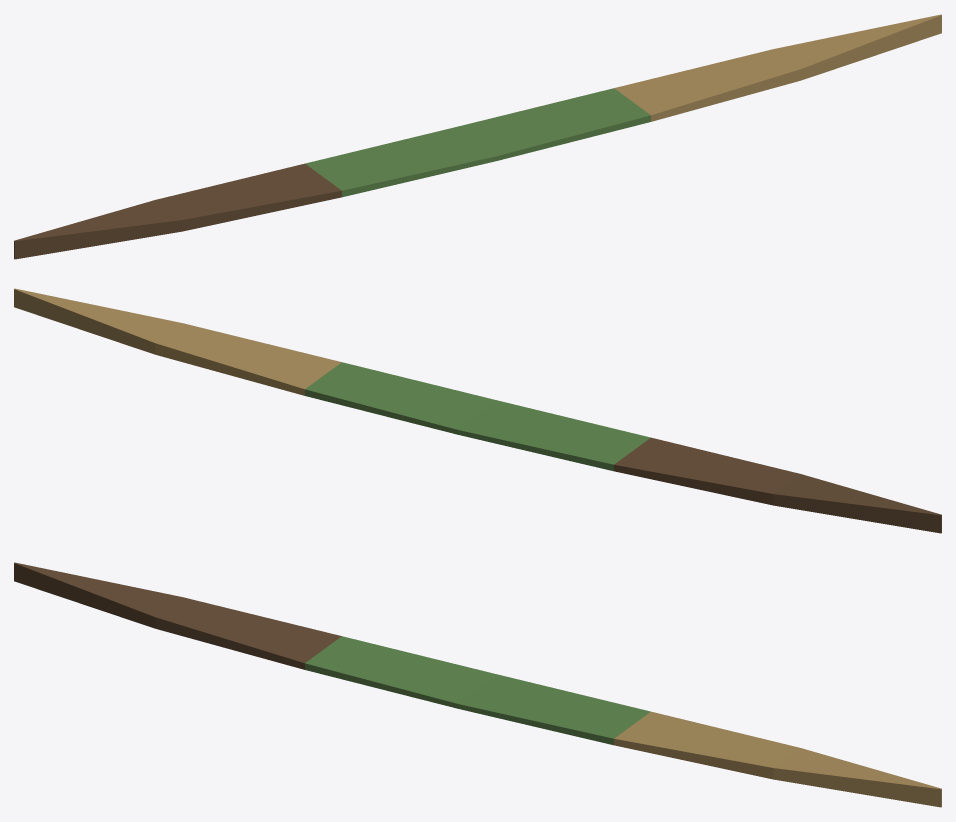
File: grass_blade.glb
The picture shows the model from 3 angles, top to bottom: view 1: azimuth 30°, elevation 25°; view 2: azimuth 150°, elevation 25°; view 3: azimuth 330°, elevation 25°; orthographic projection.
Visible parts, largest first — view 1: grass_blade; view 2: grass_blade; view 3: grass_blade.
Boxes of the visible parts, x1,y1,x2,y2 form: grass_blade: (14, 14, 941, 259); grass_blade: (14, 288, 941, 533); grass_blade: (14, 562, 941, 807).
Size of the model in its own units: 0.08 by 0.0015 by 0.006.
